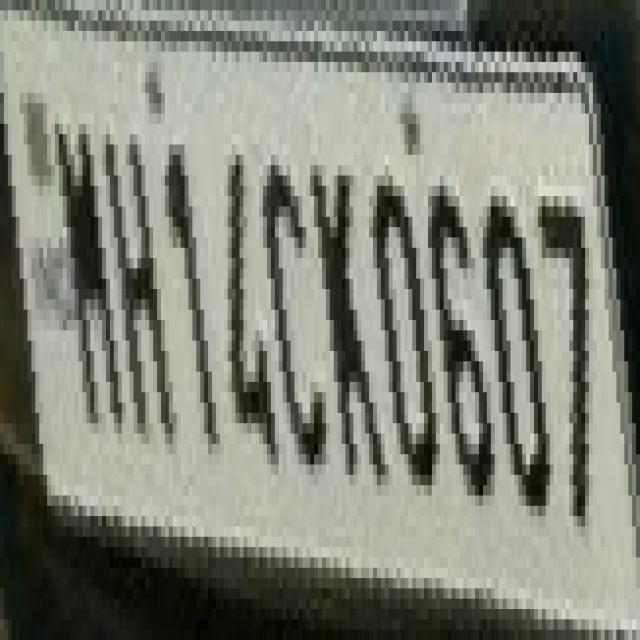license_plate: (19, 61, 640, 588)
